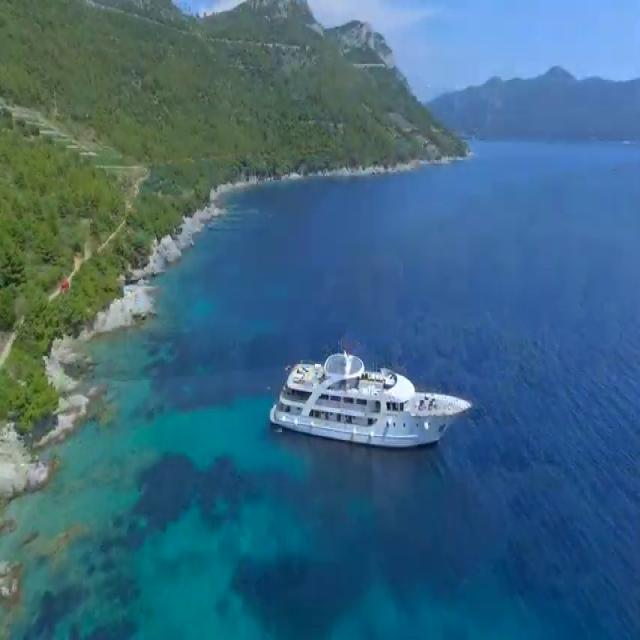passenger ship: (269, 340, 472, 450)
